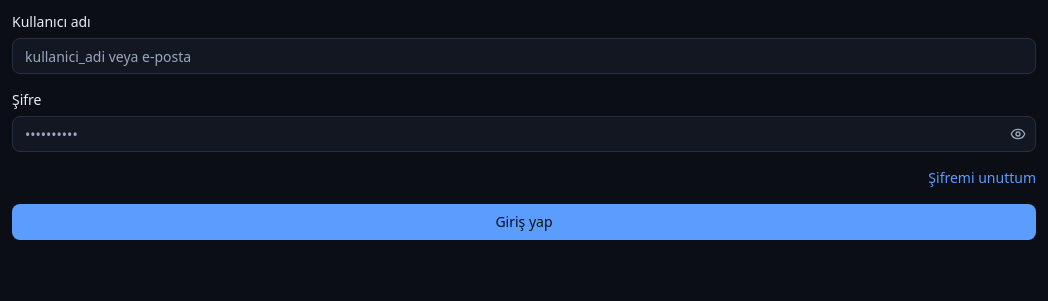
Scenario: LoginForm › boş gönderimde doğrulama mesajı gösterir
What coordinates should you click on to do the following:
click the button "Giriş yap"
I would click on:
 (524, 222)
Its box is [12,204,1036,240].
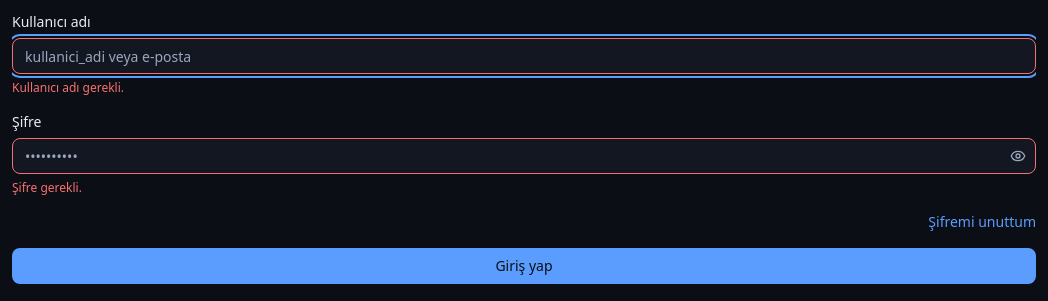
Check: the text "Kullanıcı adı gerekli." is shown, box [12,79,124,96]
Check: the text "Şifre gerekli." is shown, box [12,179,82,196]
